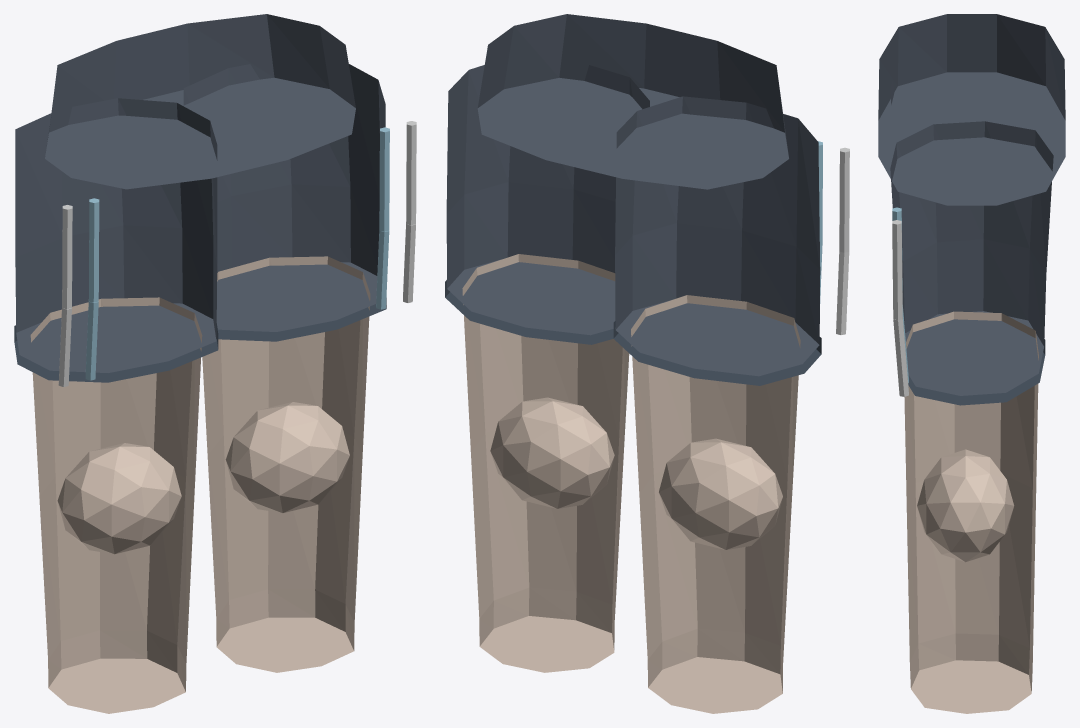
Rendered from bottom_shorts.glb.
3 views of the same model, side by side, from view 1: azimuth 30°, elevation 25°; view 2: azimuth 150°, elevation 25°; view 3: azimuth 270°, elevation 25° (orthographic). The views are drawn at different scales.
Parts seen in each view (by area): view 1: bottom_shorts_BareLeg_R, bottom_shorts_BareLeg_L, bottom_shorts_Waist, bottom_shorts_Leg_R, bottom_shorts_Leg_L, bottom_shorts_Knee_R, bottom_shorts_Knee_L, bottom_shorts_Stripe_L, bottom_shorts_Stripe_R, bottom_shorts_Hem_R, bottom_shorts_Hem_L; view 2: bottom_shorts_Leg_R, bottom_shorts_BareLeg_R, bottom_shorts_BareLeg_L, bottom_shorts_Waist, bottom_shorts_Leg_L, bottom_shorts_Knee_L, bottom_shorts_Knee_R, bottom_shorts_Stripe_R, bottom_shorts_Hem_R, bottom_shorts_Hem_L; view 3: bottom_shorts_BareLeg_L, bottom_shorts_Waist, bottom_shorts_Leg_L, bottom_shorts_Knee_L, bottom_shorts_Stripe_L, bottom_shorts_Hem_L.
Part boxes in pixels (x1,y1,x2,y2): bottom_shorts_BareLeg_R: [30, 297, 202, 713]; bottom_shorts_BareLeg_L: [202, 256, 370, 672]; bottom_shorts_Waist: [45, 14, 355, 189]; bottom_shorts_Leg_R: [15, 98, 217, 372]; bottom_shorts_Leg_L: [183, 64, 385, 331]; bottom_shorts_Knee_R: [57, 443, 181, 554]; bottom_shorts_Knee_L: [225, 402, 349, 513]; bottom_shorts_Stripe_L: [376, 121, 416, 309]; bottom_shorts_Stripe_R: [58, 198, 99, 386]; bottom_shorts_Hem_R: [14, 323, 218, 382]; bottom_shorts_Hem_L: [217, 298, 386, 341]; bottom_shorts_Leg_R: [615, 96, 820, 376]; bottom_shorts_BareLeg_R: [631, 295, 800, 713]; bottom_shorts_BareLeg_L: [462, 254, 629, 672]; bottom_shorts_Waist: [477, 14, 788, 189]; bottom_shorts_Leg_L: [446, 65, 649, 335]; bottom_shorts_Knee_L: [490, 397, 614, 508]; bottom_shorts_Knee_R: [659, 438, 782, 549]; bottom_shorts_Stripe_R: [818, 141, 849, 334]; bottom_shorts_Hem_R: [613, 321, 821, 385]; bottom_shorts_Hem_L: [445, 280, 621, 344]; bottom_shorts_BareLeg_L: [904, 311, 1038, 713]; bottom_shorts_Waist: [878, 14, 1065, 205]; bottom_shorts_Leg_L: [890, 121, 1053, 395]; bottom_shorts_Knee_L: [917, 449, 1014, 562]; bottom_shorts_Stripe_L: [892, 207, 908, 396]; bottom_shorts_Hem_L: [908, 339, 1045, 405].
Size of the model in its own units: 0.3704 by 0.597 by 0.1773.
